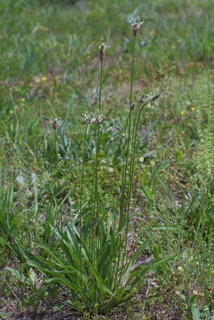buckhorn plantain: (59, 15, 157, 316)
